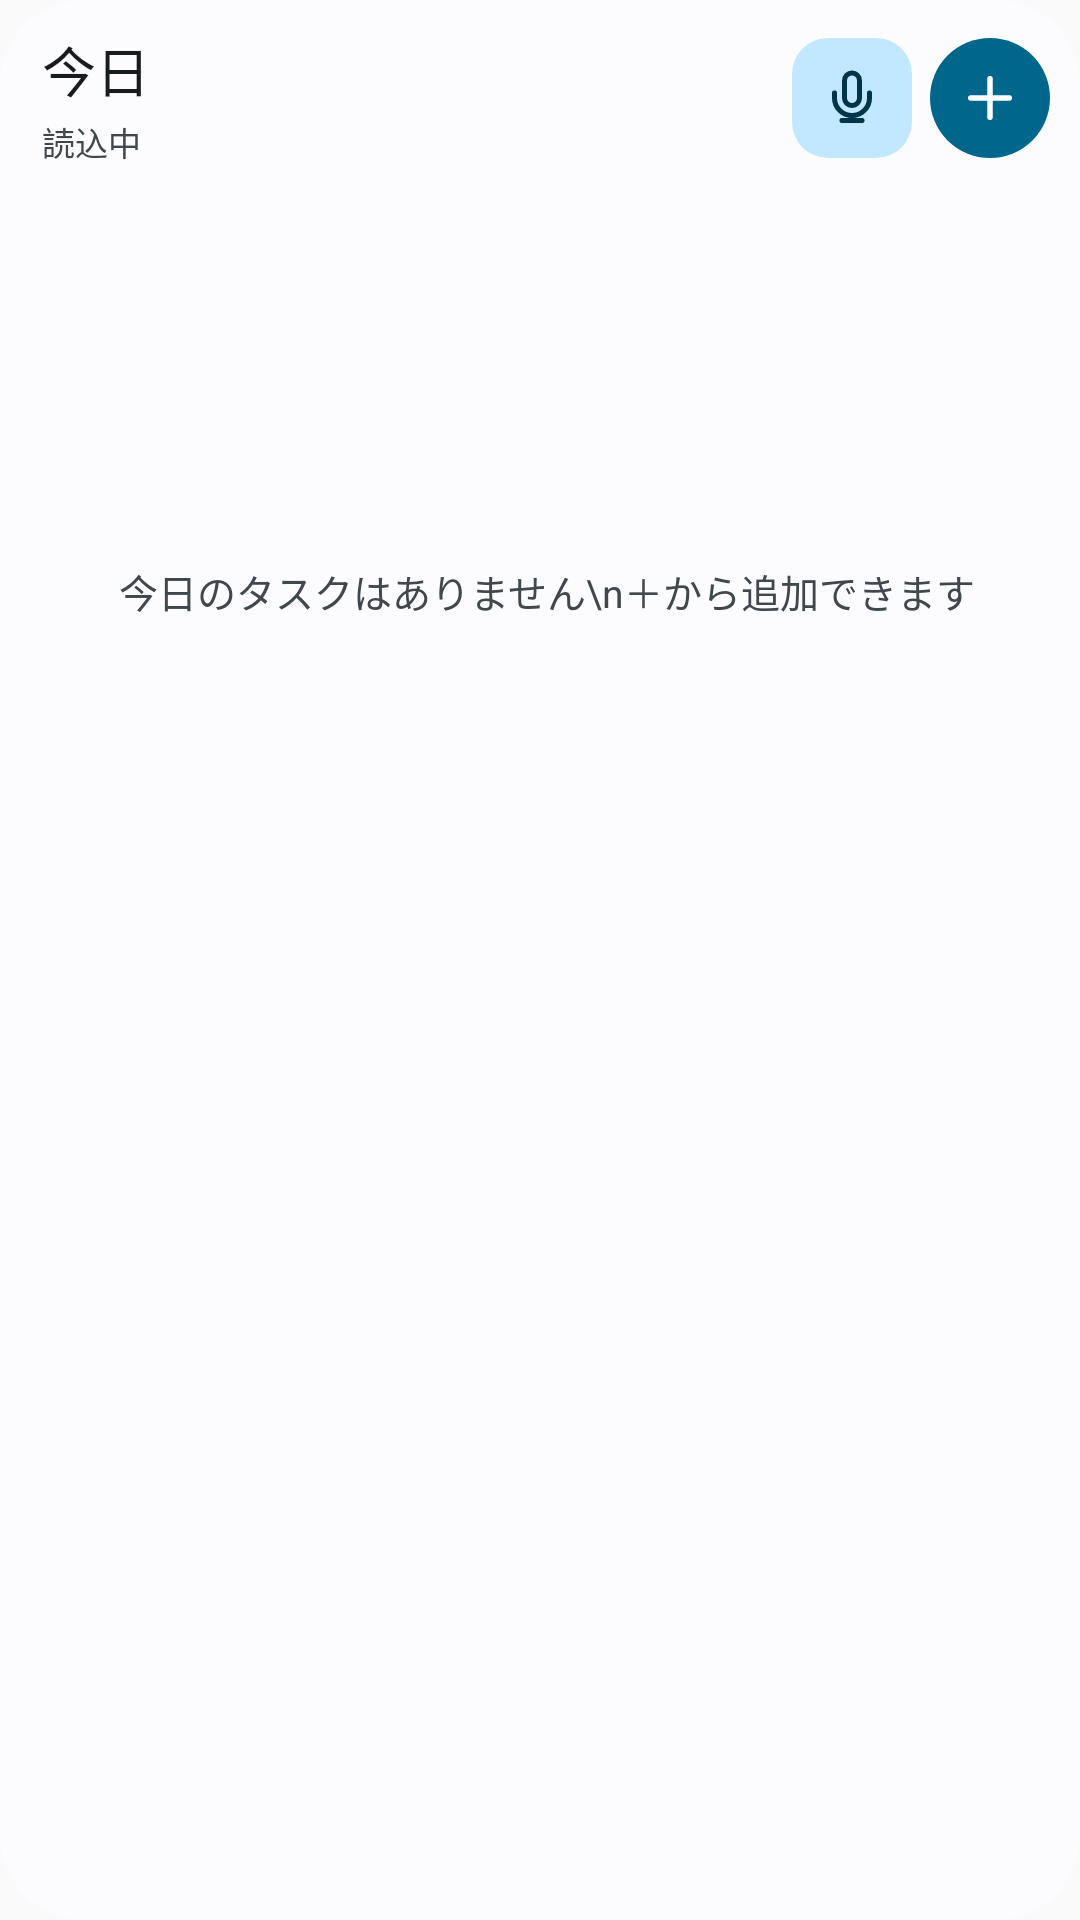

Screen size 1080w x 1920h. Icon name, then its center in pixels as (x=x, y=y):
Taskを追加: (x=990, y=98)
音声で追加: (x=852, y=98)
